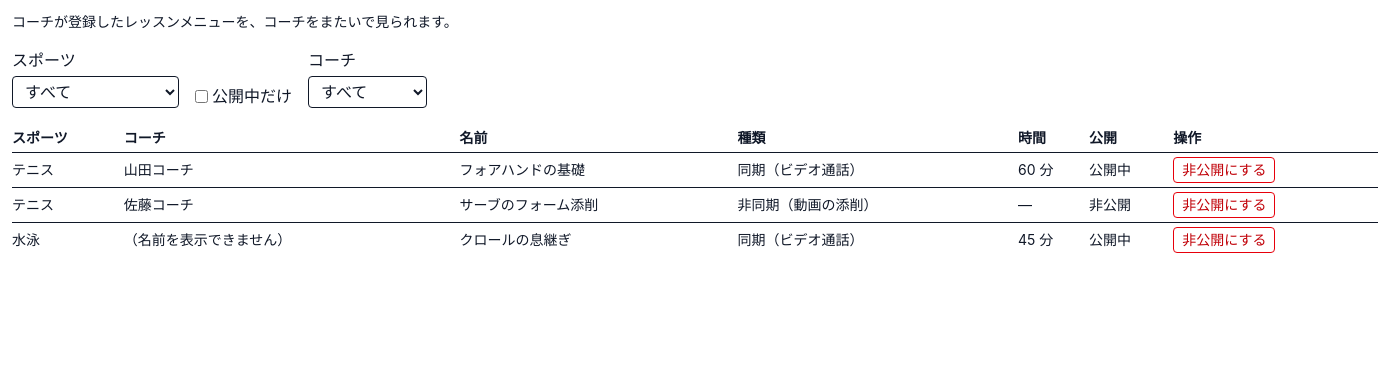
it: 本部がレッスンメニューを非公開にする・公開に戻す › 「非公開にする」は行の中で確かめ、理由を付けて確定すると送り、送っている間は押せず、結果を行に反映する
expect the table is shown: met, box [12,124,1378,257]
Step 1. Click the button with aria-label "「フォアハンドの基礎」を非公開にする" → coordinates (1224, 170), box [1173,157,1275,183]
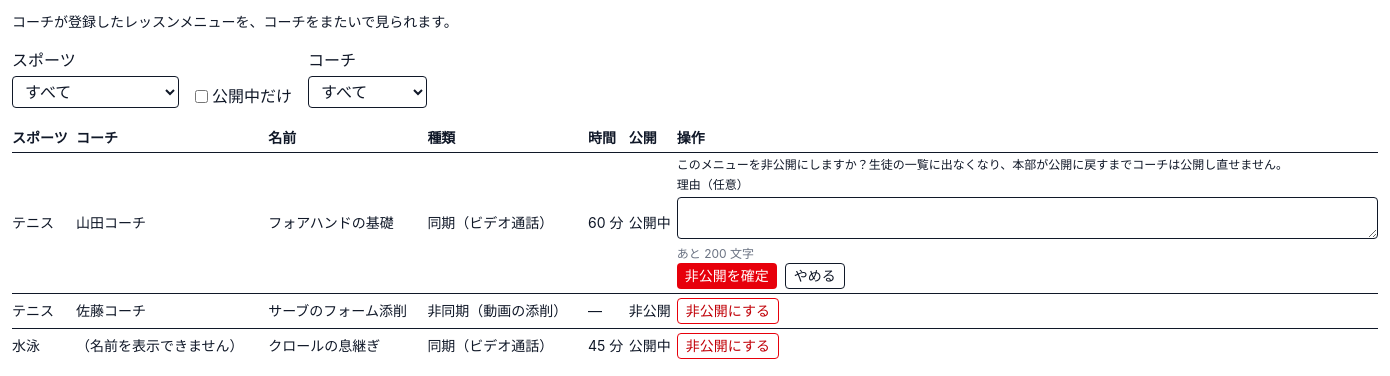
expect the element named "「フォアハンドの基礎」の非公開の確認" shows "本部が公開に戻すまでコーチは公開し直せません": met, box [677,157,1288,172]
Step 2. Type "誤った内容" into the text box labelled "理由（任意）" → coordinates (1027, 218), box [677,197,1378,239]
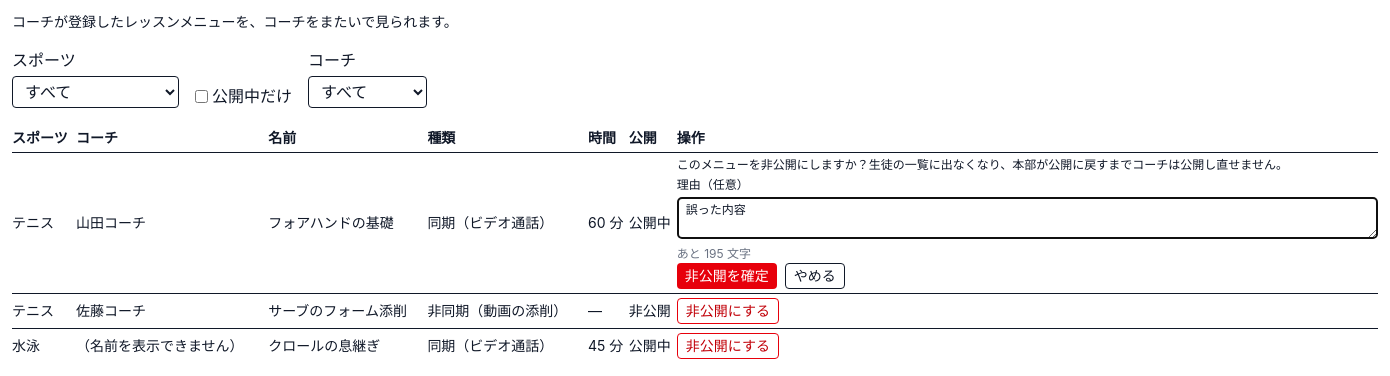
Step 3. Click the button "非公開を確定" → coordinates (727, 276), box [677,263,777,289]
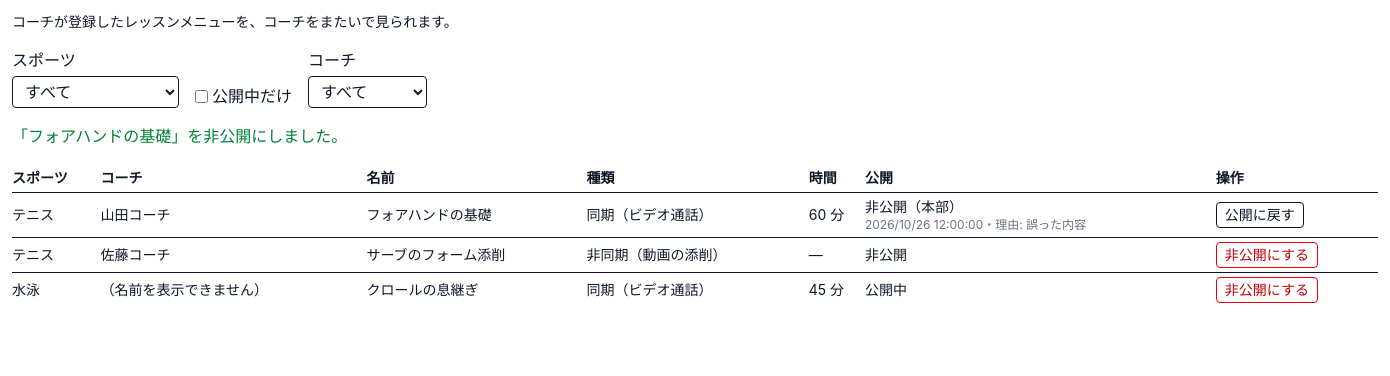
expect the button "公開に戻す" is shown: met, box [1216,202,1304,228]
expect the message reads "「フォアハンドの基礎」を非公開にしました。": met, box [12,126,347,146]
expect the cell "非公開（本部） 2026/10/26 12:00:00・理由: 誤った内容" is shown: met, box [865,192,1216,238]
